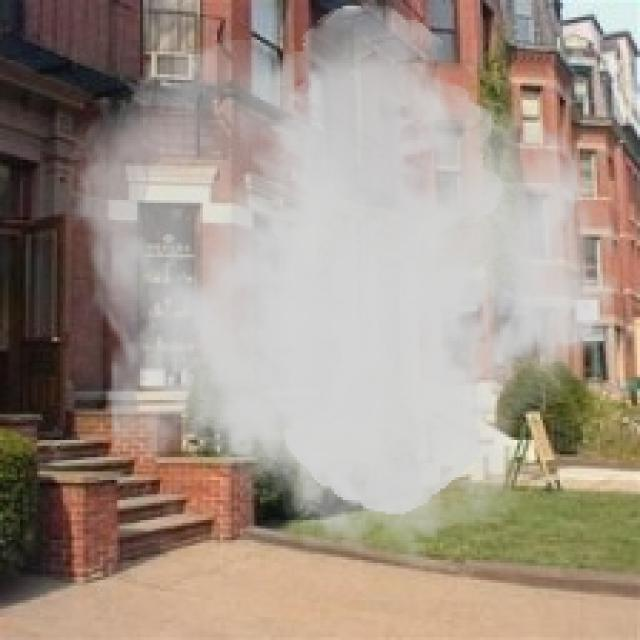Smoke: (63, 2, 626, 572)
